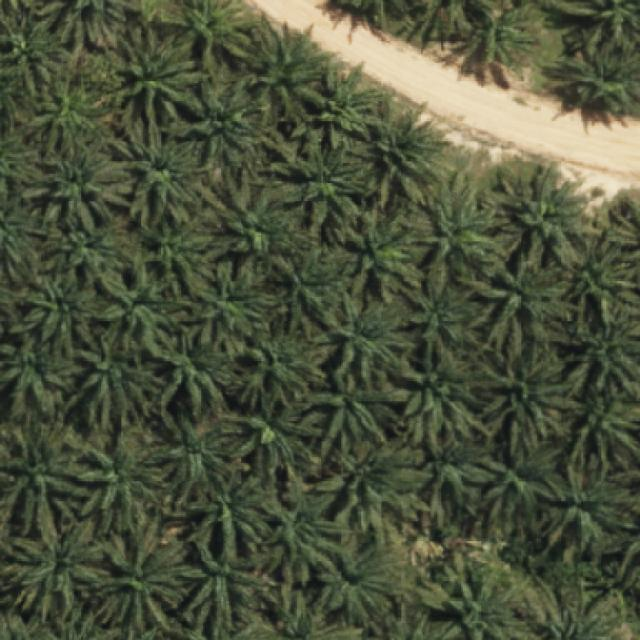Kelapa_Sawit: (474, 336, 586, 459), (294, 517, 412, 631), (526, 441, 640, 557), (385, 336, 493, 458), (310, 428, 433, 534), (255, 457, 352, 591), (487, 161, 595, 276), (195, 164, 298, 278), (466, 253, 579, 356), (88, 527, 195, 635), (61, 324, 168, 431), (352, 99, 454, 210), (182, 505, 270, 633), (231, 19, 338, 124), (23, 138, 135, 237), (107, 117, 202, 232), (179, 254, 284, 358), (114, 23, 214, 131), (74, 428, 169, 540), (284, 58, 398, 151), (271, 122, 367, 230), (309, 292, 417, 388), (92, 264, 196, 361), (311, 361, 411, 461), (150, 408, 248, 510), (184, 456, 279, 561), (414, 171, 509, 274), (150, 317, 242, 421), (233, 380, 325, 483), (180, 72, 272, 172), (477, 432, 569, 528), (238, 324, 330, 419), (336, 209, 427, 305), (262, 242, 347, 342), (18, 256, 102, 355), (28, 62, 109, 162), (43, 219, 135, 307), (561, 224, 640, 326), (417, 418, 498, 513), (131, 210, 215, 298), (400, 271, 478, 352)
